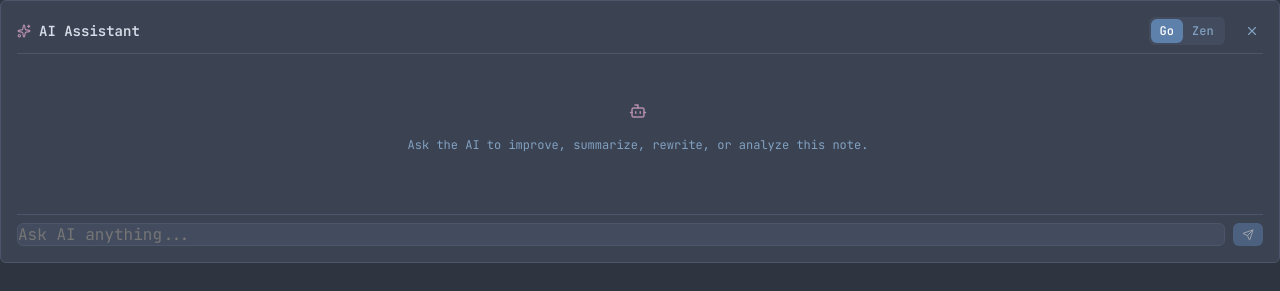
Test case: AIAssistantPanel › user message appears in chat after typing and clicking send
Type "Hello AI" into the field with placeholder "Ask AI anything..." at (621, 235), box [17,223,1225,246]
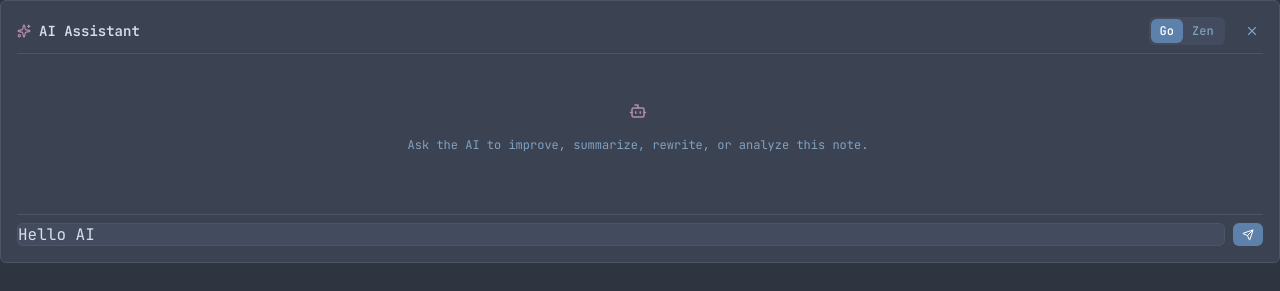
Expected: the 4th button is enabled
Click the 4th button at (1248, 235), box [1233,223,1263,246]
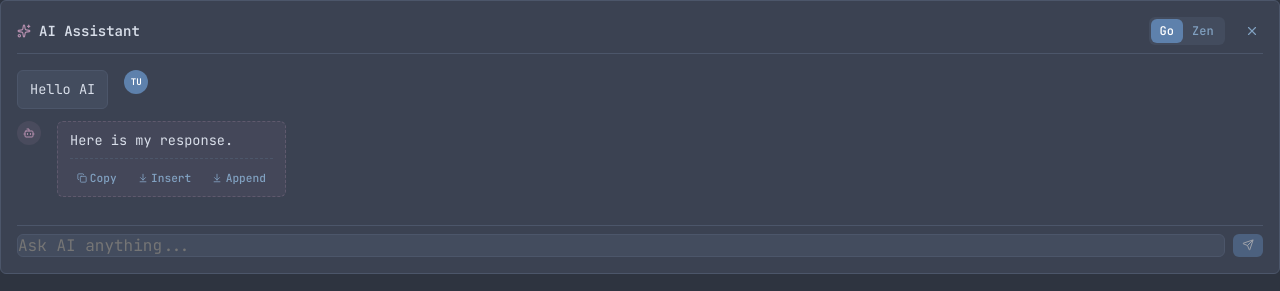
Expected: the text "Hello AI" is shown, [17,70,108,109]
